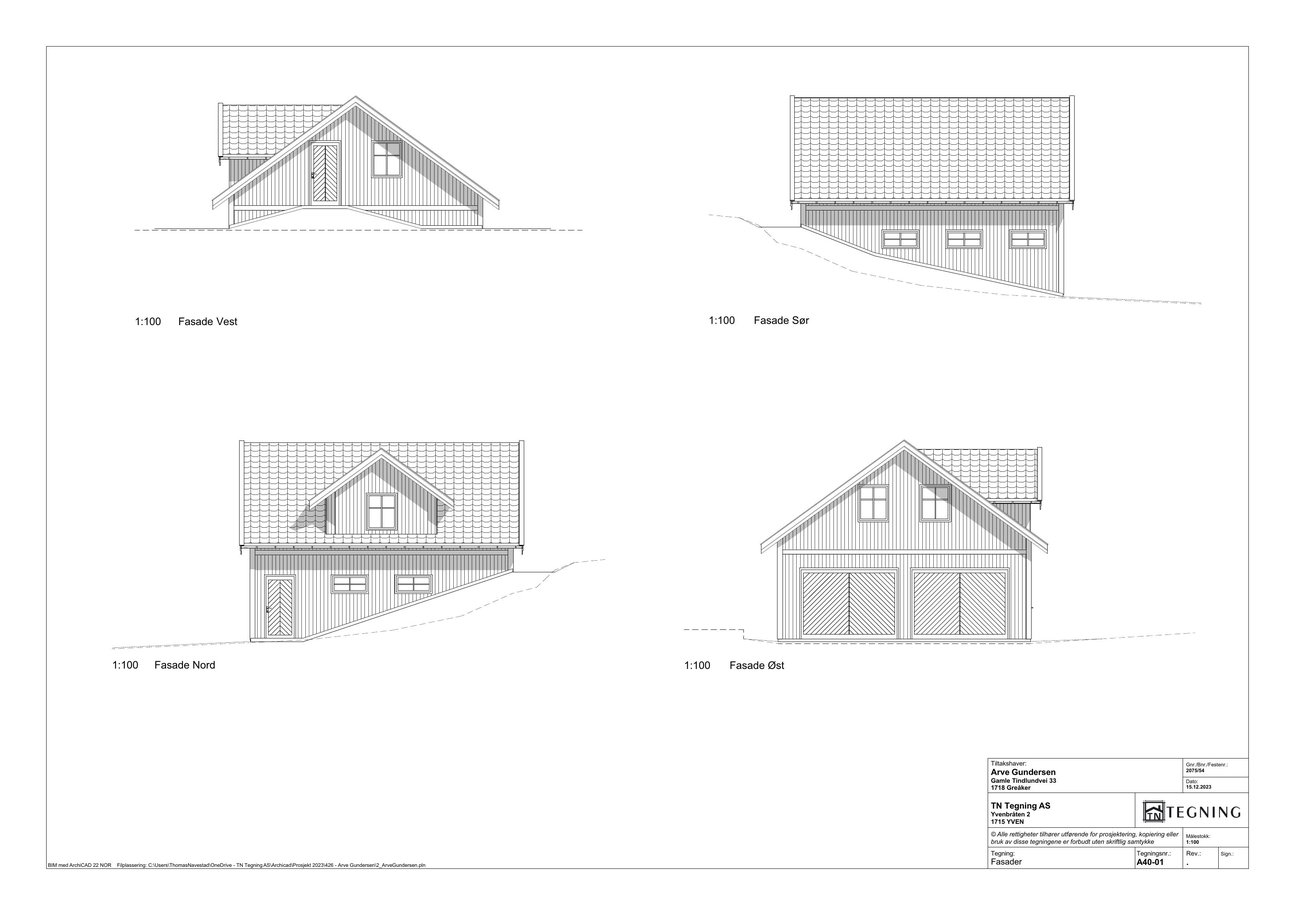fasade: (760, 439, 1049, 644), (789, 94, 1076, 298), (238, 440, 525, 643), (211, 95, 500, 230)
